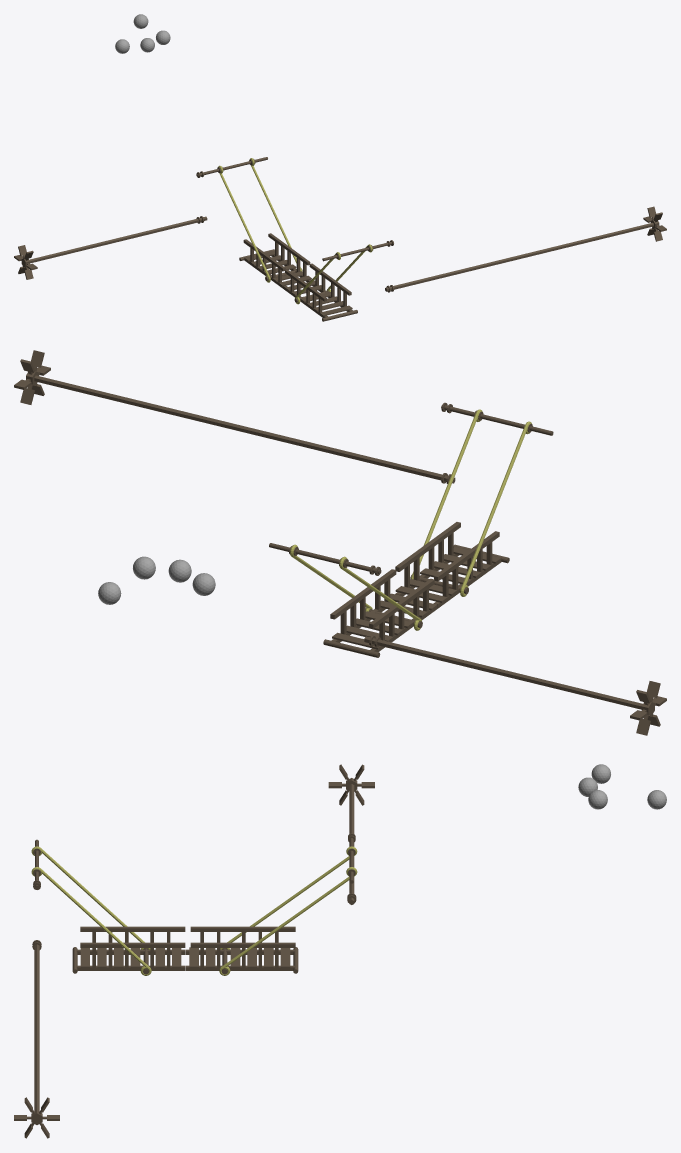
File: trick1_interactive.fbx
3 renders of one model, top to bottom at view 1: azimuth 30°, elevation 25°; view 2: azimuth 150°, elevation 25°; view 3: azimuth 270°, elevation 25°, orthographic. The views are drawn at different scales.
Parts seen in each view (by area): view 1: bridge_2, bridge, rolling1_2, rolling1; view 2: bridge, bridge_2, rolling1_2, rolling1, blades, string2_2, rolling2, rolling2_2, string2_1; view 3: bridge_2, bridge, rolling1_2, blades, string1_2.
Boxes of the visible parts, bbox=[...] form: bridge_2: bbox=[285, 263, 357, 321]; bridge: bbox=[239, 233, 311, 289]; rolling1_2: bbox=[385, 222, 653, 292]; rolling1: bbox=[29, 216, 207, 263]; bridge: bbox=[323, 569, 437, 657]; bridge_2: bbox=[395, 522, 509, 608]; rolling1_2: bbox=[34, 375, 455, 483]; rolling1: bbox=[364, 635, 642, 709]; blades: bbox=[630, 681, 666, 735]; string2_2: bbox=[461, 425, 527, 588]; rolling2: bbox=[269, 543, 381, 575]; rolling2_2: bbox=[441, 402, 553, 435]; string2_1: bbox=[412, 413, 478, 576]; bridge_2: bbox=[72, 926, 185, 974]; bridge: bbox=[185, 926, 298, 974]; rolling1_2: bbox=[32, 940, 41, 1111]; blades: bbox=[328, 764, 374, 805]; string1_2: bbox=[221, 875, 354, 969].
Size of the model in its own units: 2430 by 630 by 1990.
